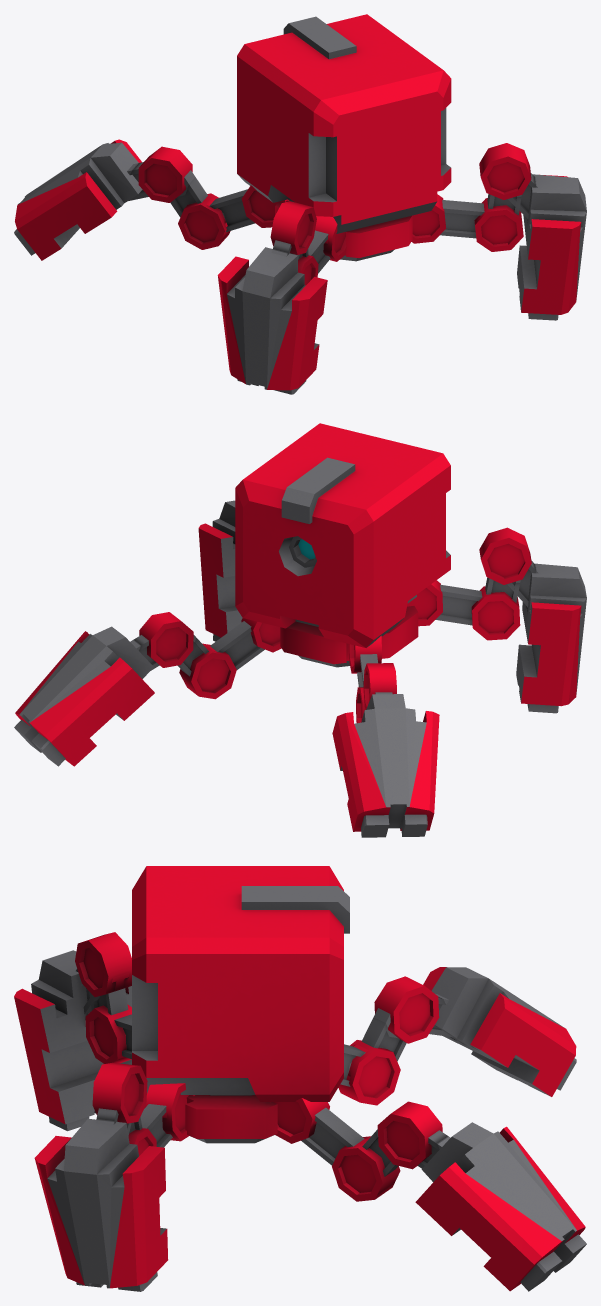
File: Monster1_Attack11.obj
3 renders of one model, top to bottom at view 1: azimuth 30°, elevation 25°; view 2: azimuth 150°, elevation 25°; view 3: azimuth 270°, elevation 25°, orthographic. The views are drawn at different scales.
Parts seen in each view (by area): view 1: Box006, Object021, Object025, Object017, Object020, Object027, Object028, Object018, Object019, Object024, Object026, Object022; view 2: Box006, Object025, Object013, Object021, Object017, Object024, Object016, Object023, Object015, Object022, Object014, Object028 (+1 smaller); view 3: Box006, Object017, Object013, Object025, Object021, Object027, Object016, Object014, Object028, Object015, Object024, Object020 (+3 smaller).
Part boxes in pixels (x1=…): Box006: x1=237, y1=14, x2=451, y2=261; Object021: x1=217, y1=247, x2=327, y2=394; Object025: x1=14, y1=139, x2=142, y2=260; Object017: x1=517, y1=174, x2=586, y2=320; Object020: x1=479, y1=143, x2=538, y2=218; Object027: x1=170, y1=170, x2=230, y2=249; Object028: x1=127, y1=146, x2=192, y2=202; Object018: x1=411, y1=194, x2=484, y2=243; Object019: x1=474, y1=194, x2=523, y2=251; Object024: x1=270, y1=201, x2=316, y2=259; Object026: x1=209, y1=185, x2=289, y2=231; Object022: x1=308, y1=216, x2=346, y2=273; Box006: x1=235, y1=423, x2=450, y2=667; Object025: x1=332, y1=694, x2=439, y2=837; Object013: x1=14, y1=626, x2=154, y2=766; Object021: x1=516, y1=563, x2=586, y2=713; Object017: x1=198, y1=500, x2=242, y2=641; Object024: x1=479, y1=527, x2=538, y2=606; Object016: x1=130, y1=612, x2=193, y2=670; Object023: x1=471, y1=577, x2=520, y2=640; Object015: x1=178, y1=635, x2=236, y2=699; Object022: x1=407, y1=580, x2=482, y2=626; Object014: x1=210, y1=618, x2=281, y2=669; Object028: x1=363, y1=663, x2=396, y2=709; Box006: x1=132, y1=866, x2=349, y2=1143; Object017: x1=34, y1=1118, x2=168, y2=1291; Object013: x1=415, y1=1122, x2=586, y2=1291; Object025: x1=423, y1=967, x2=576, y2=1096; Object021: x1=14, y1=950, x2=131, y2=1131; Object027: x1=338, y1=1008, x2=406, y2=1105; Object016: x1=377, y1=1101, x2=450, y2=1169; Object014: x1=270, y1=1098, x2=364, y2=1165; Object028: x1=374, y1=976, x2=452, y2=1043; Object015: x1=332, y1=1129, x2=400, y2=1201; Object024: x1=75, y1=932, x2=131, y2=1014; Object020: x1=92, y1=1062, x2=147, y2=1135.
Bounding box in the file's own units: 157 × 93.84 × 160.
